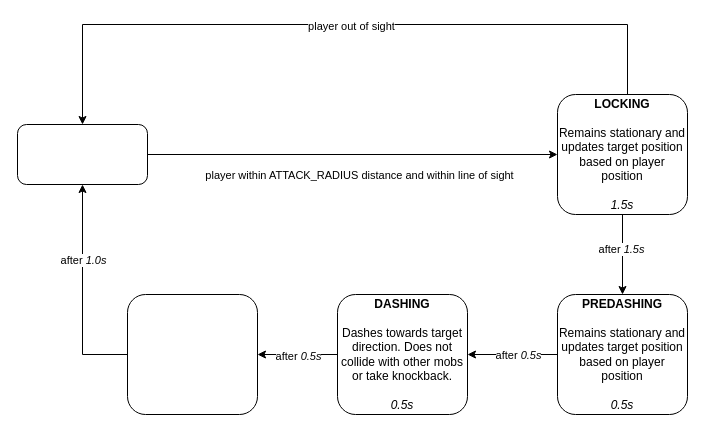
This 705x432 diagram has some shape labels left out. The shapes that lost their labels are listed below. From the top down, each one's centre as x and y in pixels, then its label:
the point at 82,154: CHASING Pathfinds towards player
the point at 192,354: POSTDASHING Remains stationary 0.5s
